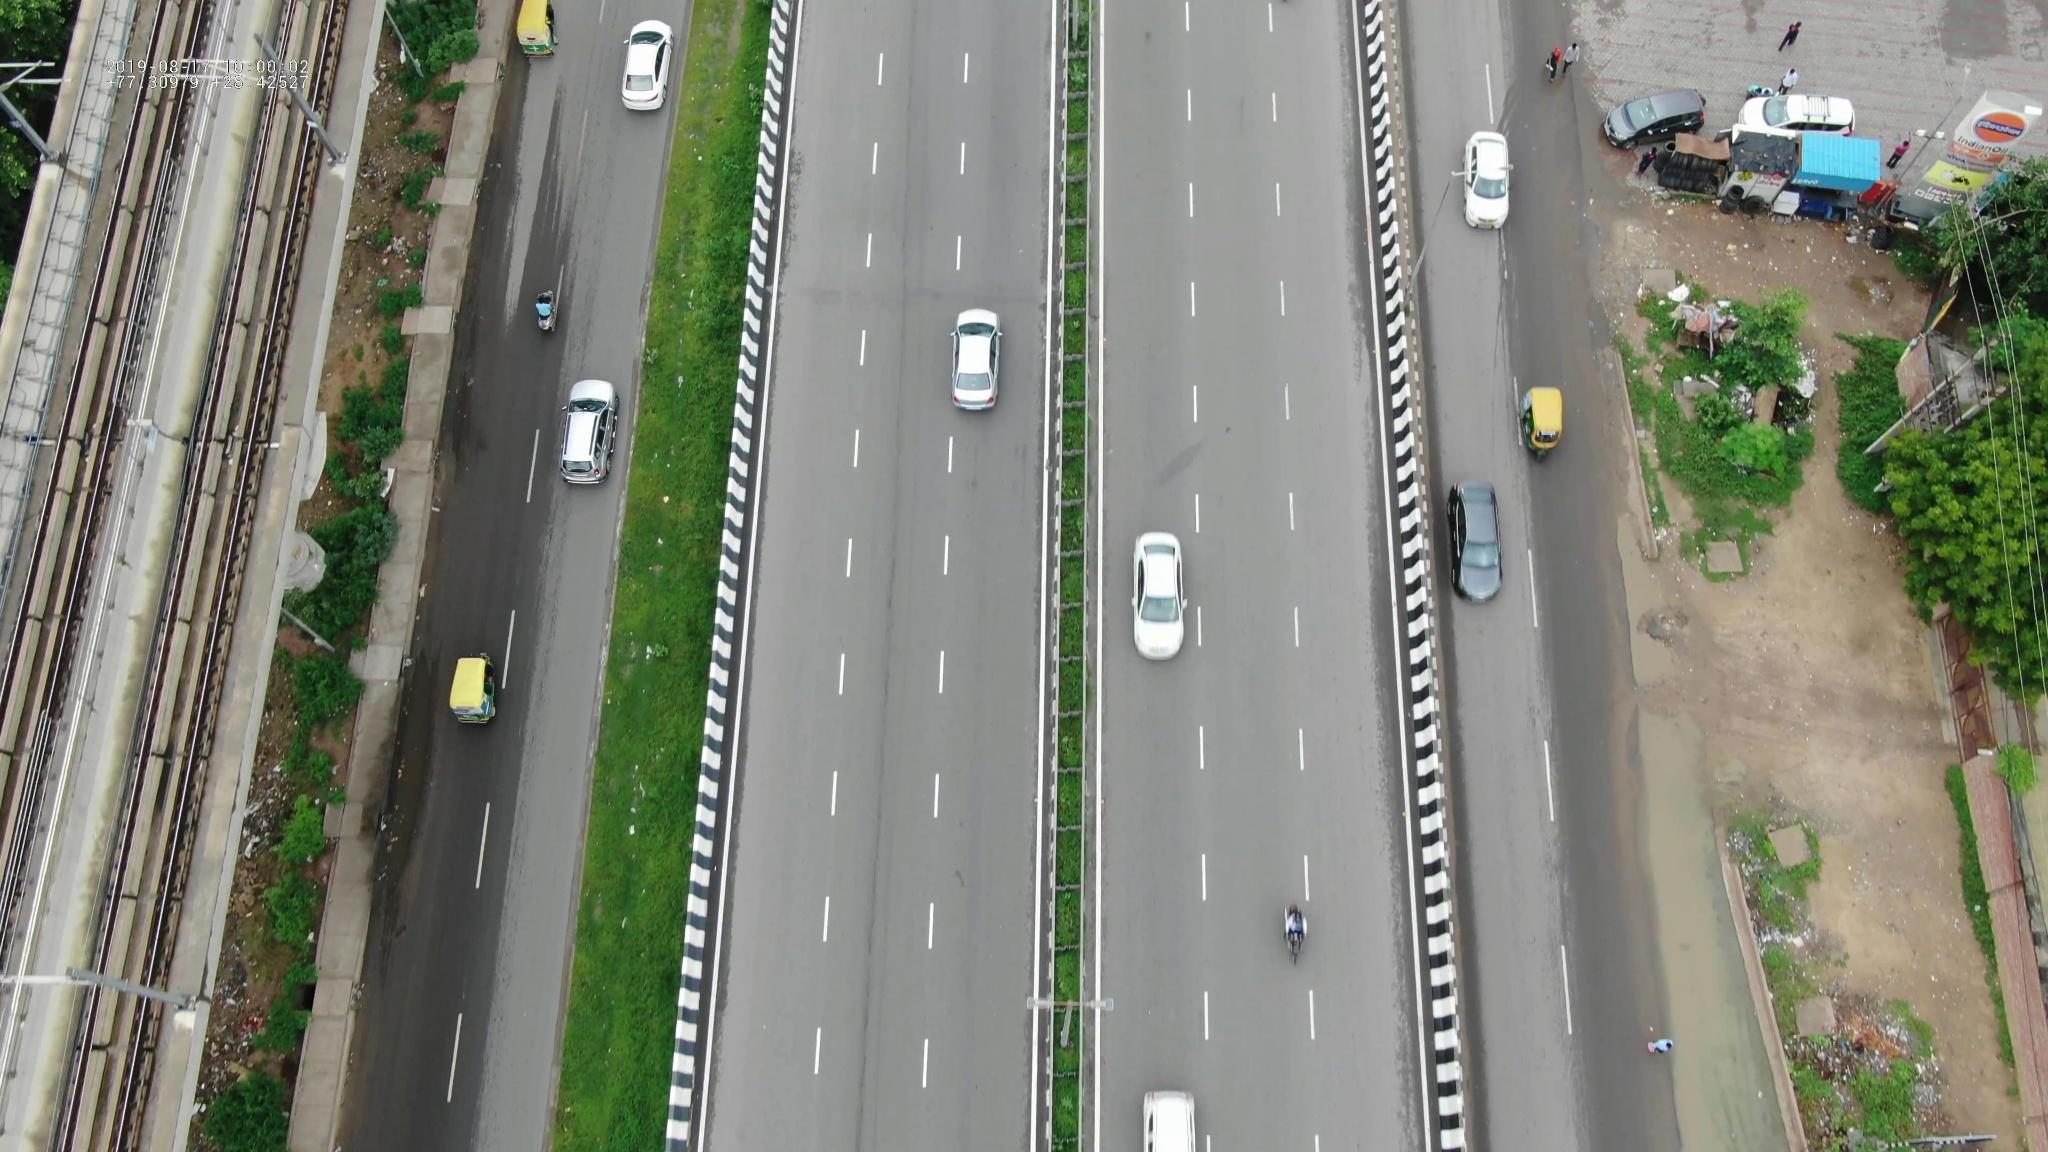Ravelling: (850, 582, 904, 1056)
Waterlogging: (1627, 716, 1767, 1142), (376, 708, 439, 897)
